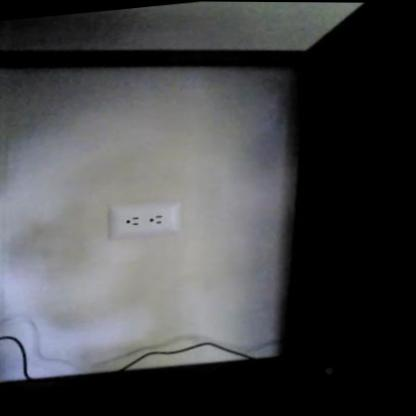OUTLET: (106, 200, 183, 240)
